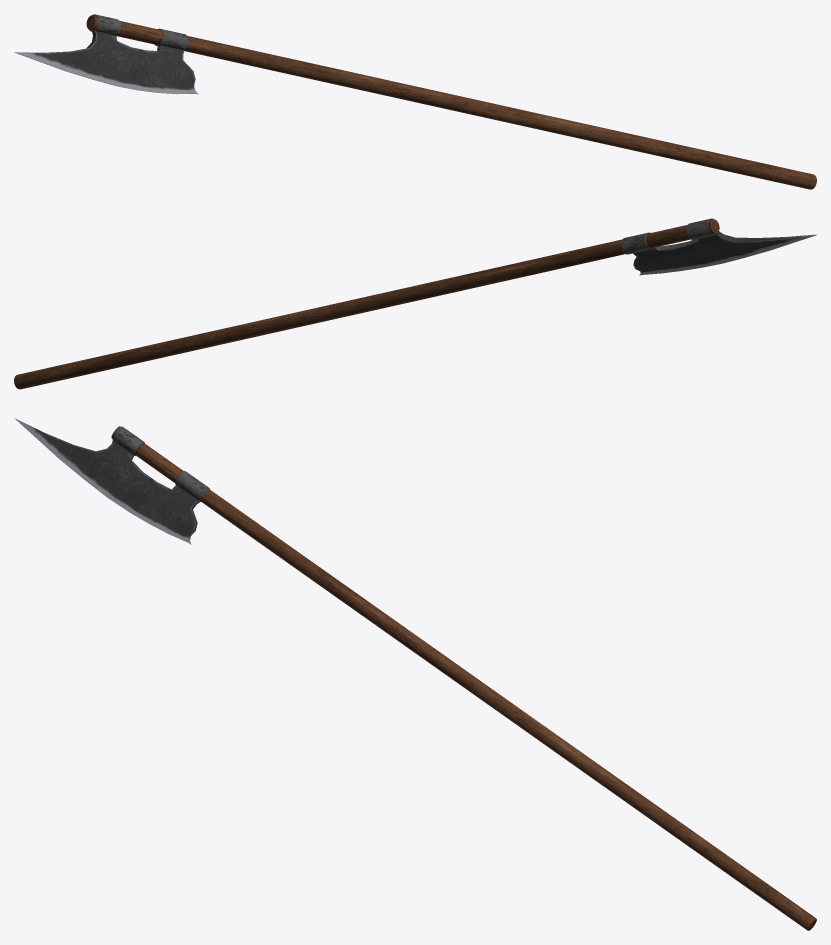
File: whhalberd.glb
3 views of the same model, one above another, from view 1: azimuth 30°, elevation 25°; view 2: azimuth 150°, elevation 25°; view 3: azimuth 330°, elevation 25° (orthographic). The views are drawn at different scales.
Parts seen in each view (by area): view 1: Object_2; view 2: Object_2; view 3: Object_2.
Boxes of the visible parts, x1=… form: Object_2: x1=14, y1=14, x2=816, y2=189; Object_2: x1=14, y1=218, x2=816, y2=389; Object_2: x1=14, y1=418, x2=816, y2=930.
Bounding box in the file's own units: 361 × 148 × 17.73.
1 material, 1 textured.
